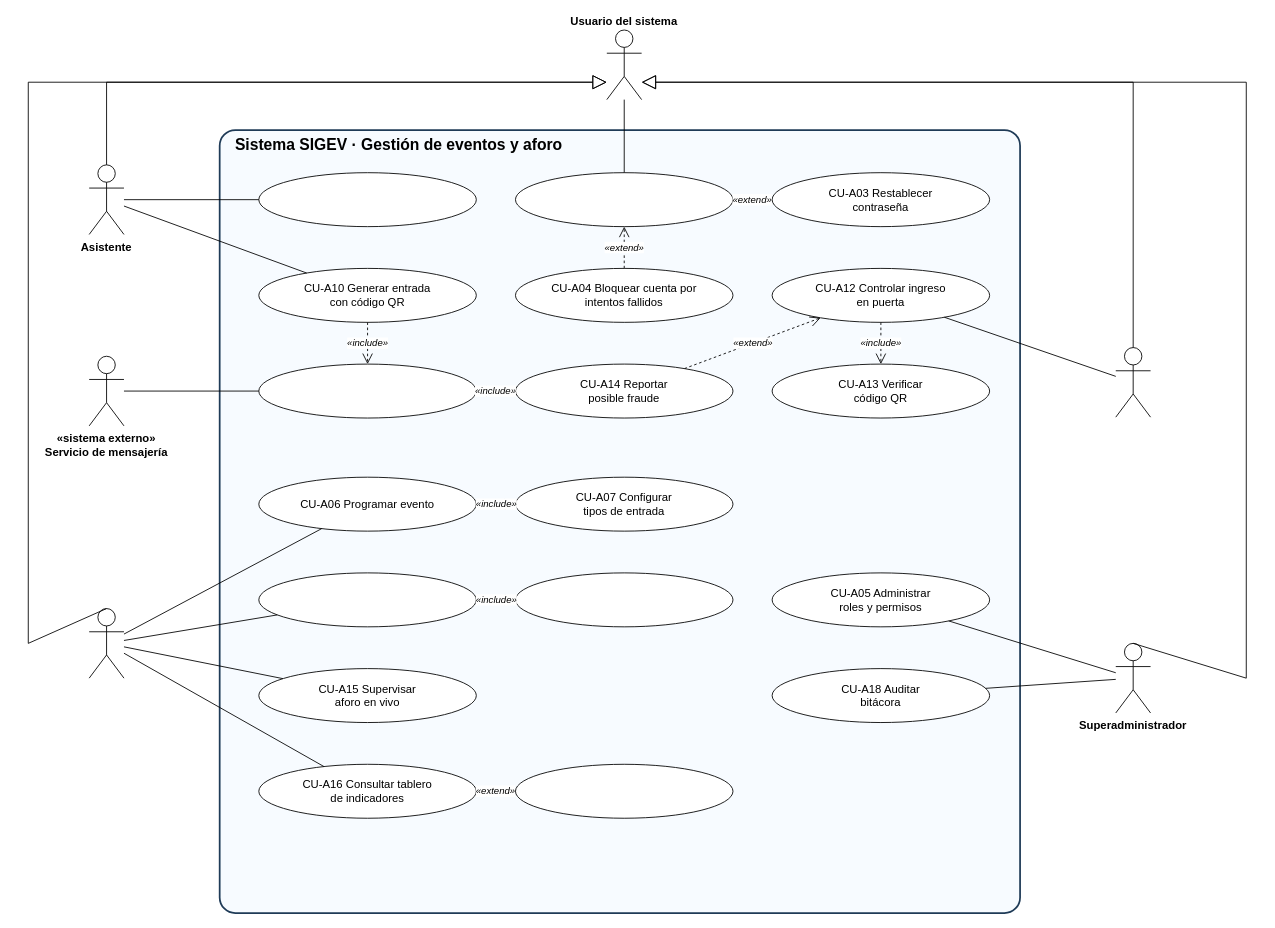
Image size: 1275x928. Some labels were removed from this diagram. Each missing label, with the box of its shape:
CU-A01 Crear cuenta de asistente: (258, 172, 476, 227)
CU-A02 Autenticarse: (515, 172, 733, 227)
CU-A08 Cargar asistentes desde archivo: (258, 572, 476, 627)
CU-A09 Validar estructura del archivo: (515, 572, 733, 627)
CU-A11 Notificar al titular: (258, 363, 476, 418)
CU-A17 Generar reporte de asistencia: (515, 763, 733, 818)
Organizador: (88, 608, 124, 678)
Validador de acceso: (1115, 347, 1151, 417)
